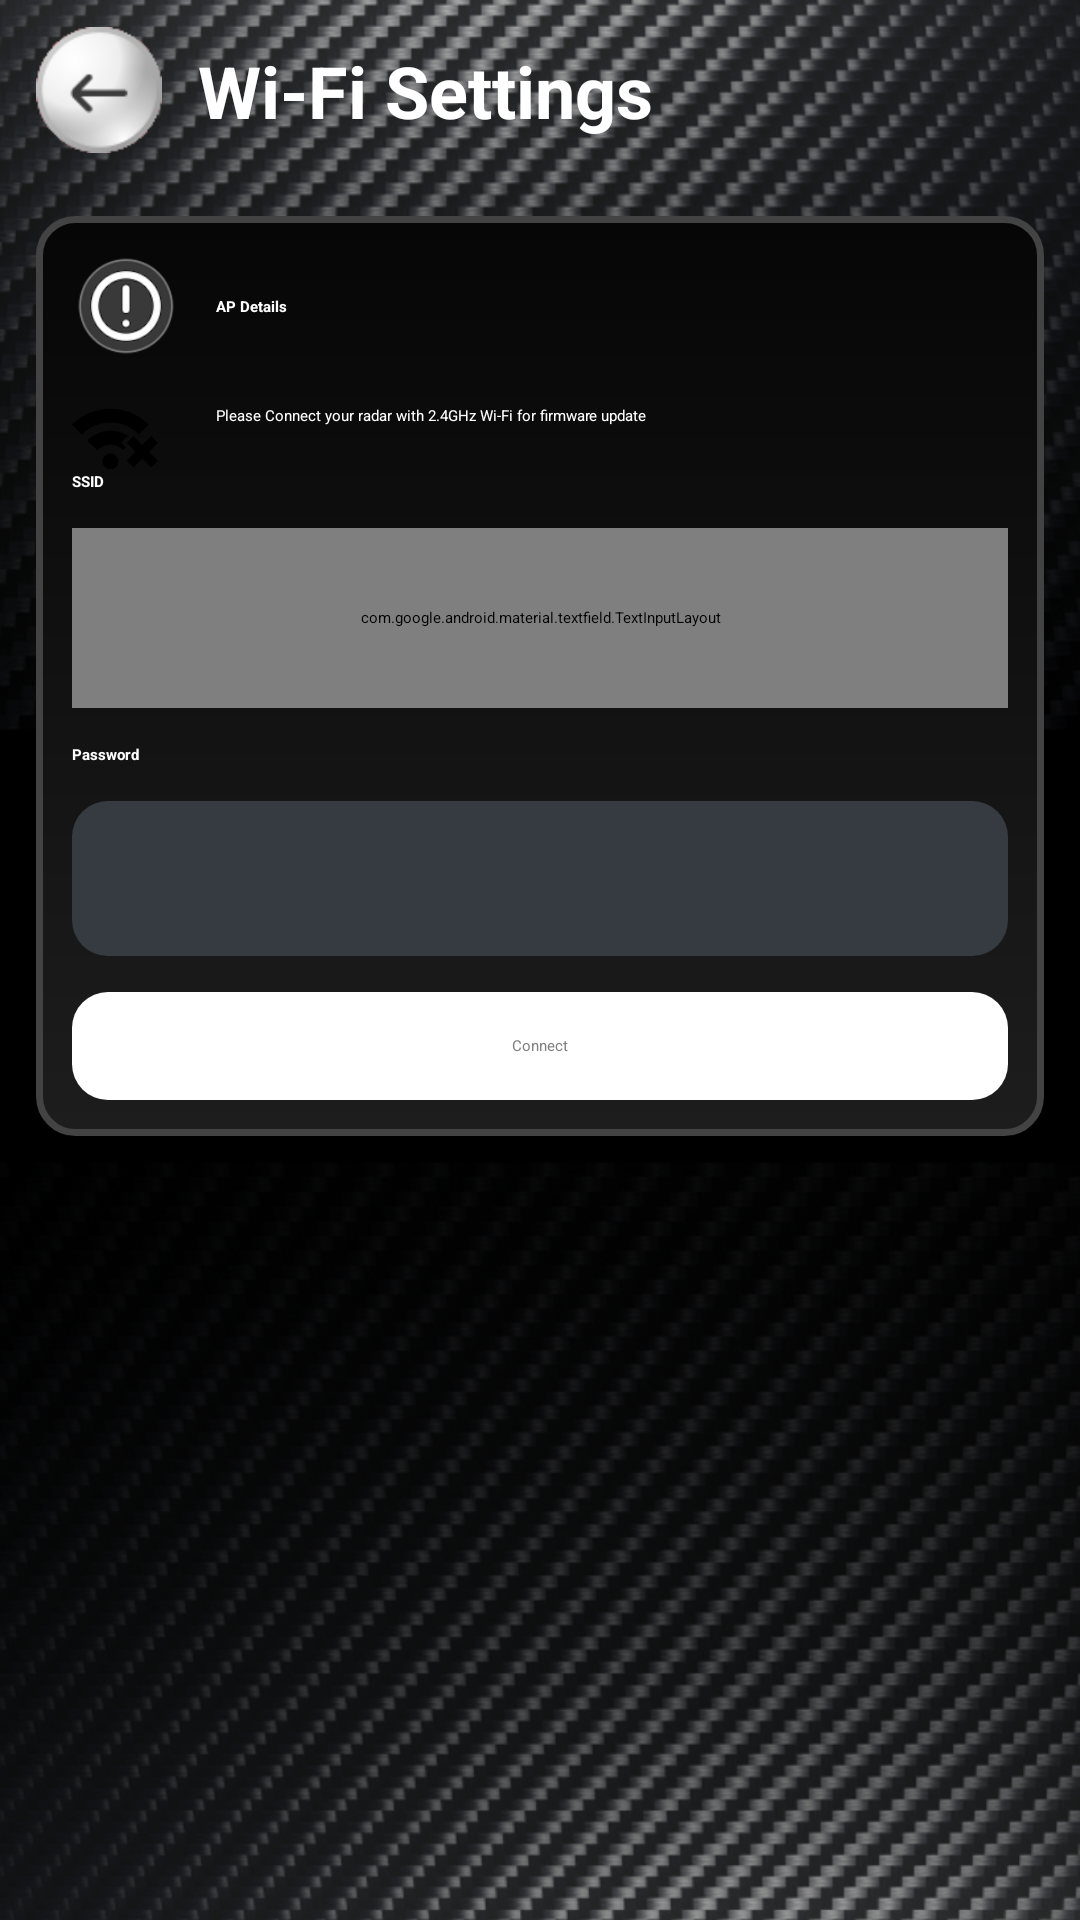

Icons on this 1080 × 1920 Android screen, each with the point to tap as (x=x, y=y):
back: (x=99, y=90)
info: (x=126, y=306)
